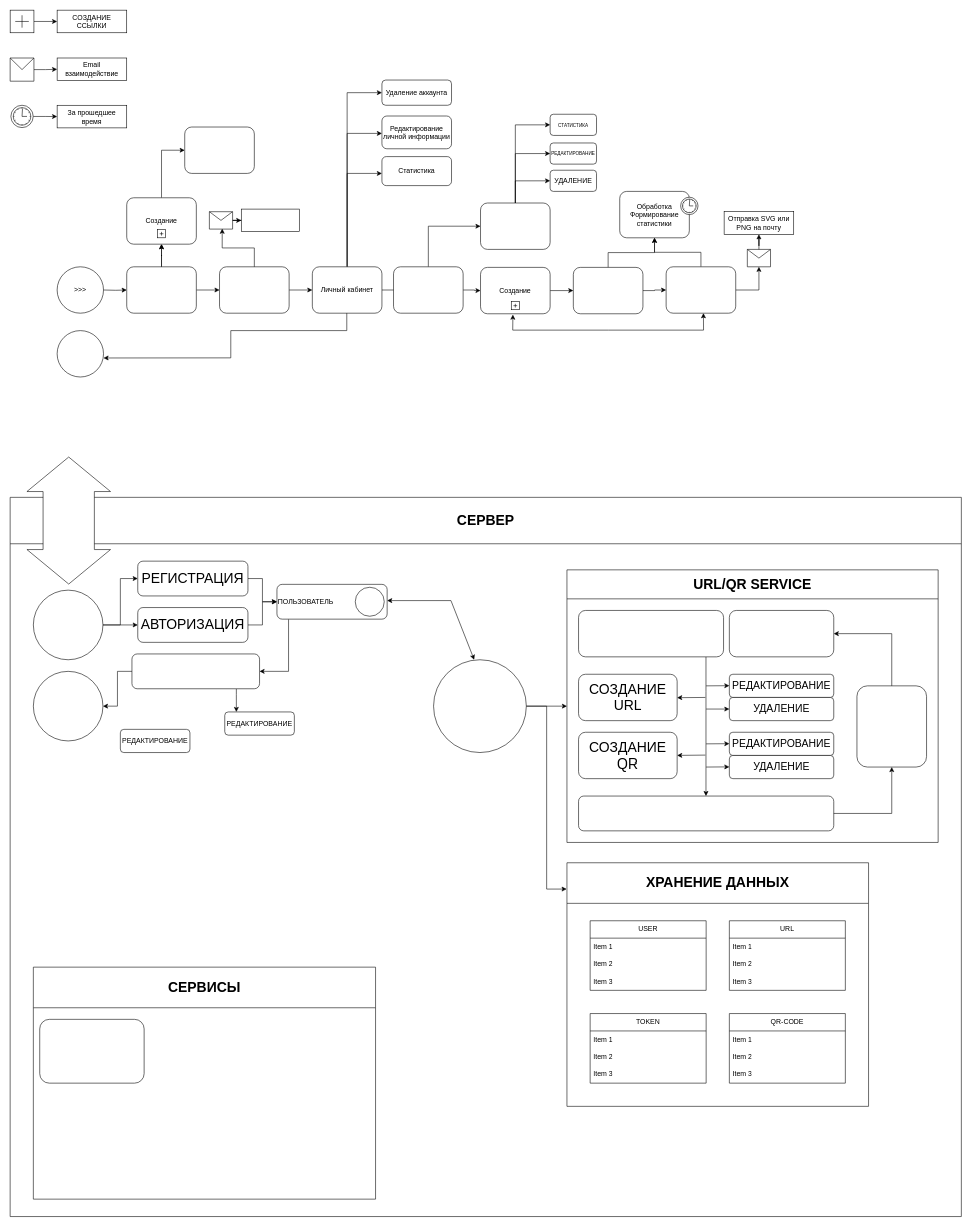
The diagram is 972 pixels wide and 1227 high, and some of its shapes have lost their labels. Here are the shapes that lost their labels. From the top down, the centre of each, then its label:
At point 219,149: "ОДНОРАЗОВАЯ ССЫЛКА отслеживать кол-во таких".
At point 270,220: "Подтверждение EMAIL".
At point 515,225: "СТРАНИЦА ССЫЛКИ".
At point 161,289: "Домашняя страница".
At point 254,289: "Вход/Регистрация".
At point 428,289: "Список ссылок".
At point 608,290: "Ссылка".
At point 701,289: "QR-код".
At point 80,353: "Выход".
At point 651,633: "ПОЛУЧЕНИЕ ССЫЛОК".
At point 781,633: "ПОЛУЧЕНИЕ СТАТИСТИКИ".
At point 195,671: "ПОЛУЧЕНИЕ ИНФОРМАЦИИ О ПОЛЬЗОВАТЕЛЕ".
At point 68,706: "LOGOUT".
At point 479,706: "MAIN PROCESS".
At point 891,726: "ФОРМИРОВАНИЕ СТАТИСТИКИ".
At point 706,813: "ОТСЛЕЖИВАНИЕ ВЗАИМОДЕЙСТВИЙ".
At point 91,1051: "Отправка мейлов SENDGRID".
